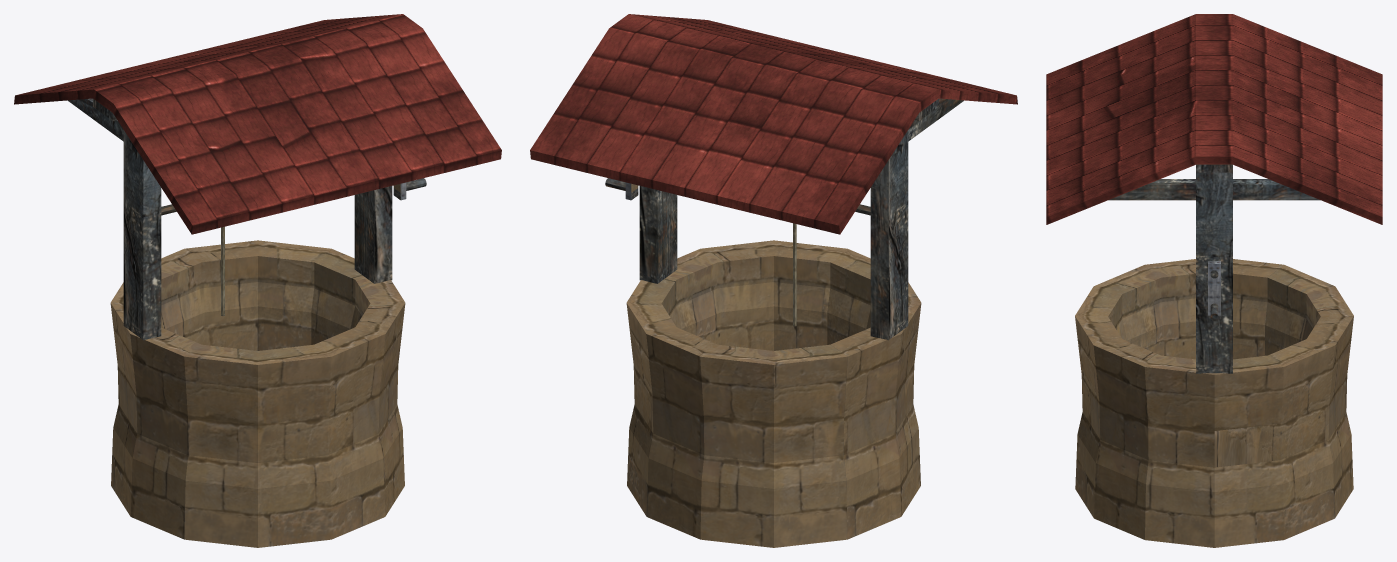
3 views of the same model, side by side, from view 1: azimuth 30°, elevation 25°; view 2: azimuth 150°, elevation 25°; view 3: azimuth 270°, elevation 25° (orthographic). The views are drawn at different scales.
Parts seen in each view (by area): view 1: puits; view 2: puits; view 3: puits.
Boxes of the visible parts, <box> form: puits: <box>14,14,501,547</box>; puits: <box>530,14,1017,547</box>; puits: <box>1046,14,1382,547</box>.
Size of the model in its own units: 0.8351 by 1.06 by 0.8.
1 material, 1 textured.
